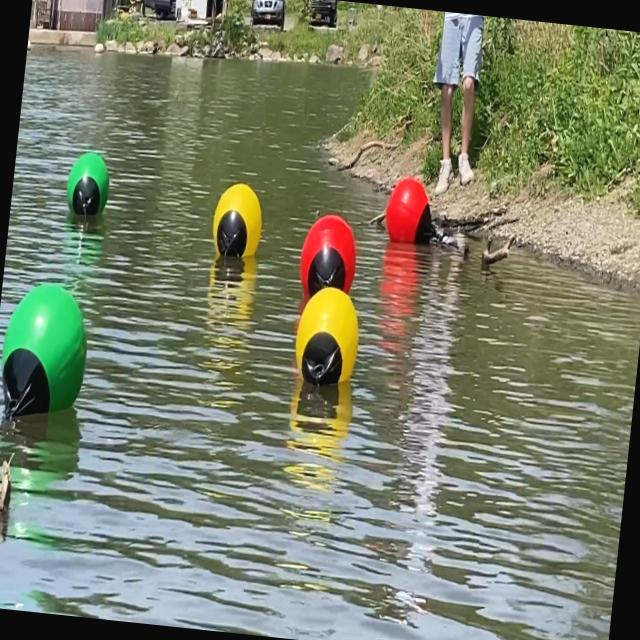buoy: (0, 278, 94, 427), (289, 280, 366, 397), (294, 208, 360, 306), (381, 170, 442, 252), (210, 178, 267, 263), (64, 148, 113, 222)
